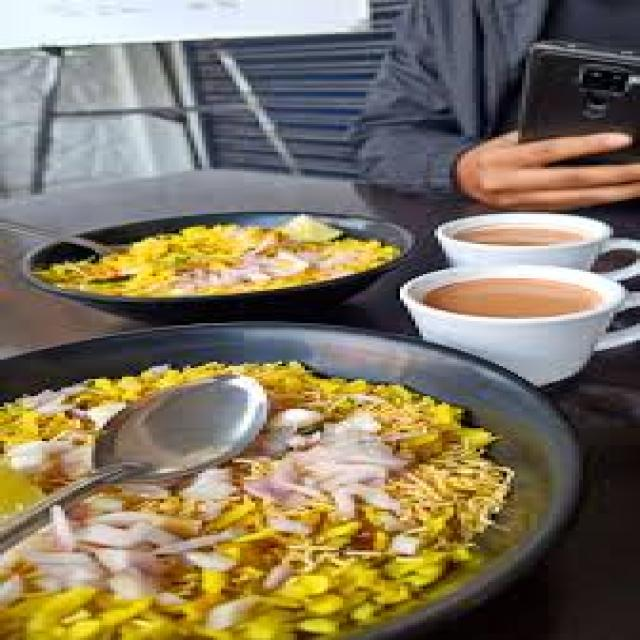POHA: (3, 358, 521, 638), (120, 217, 405, 288)
